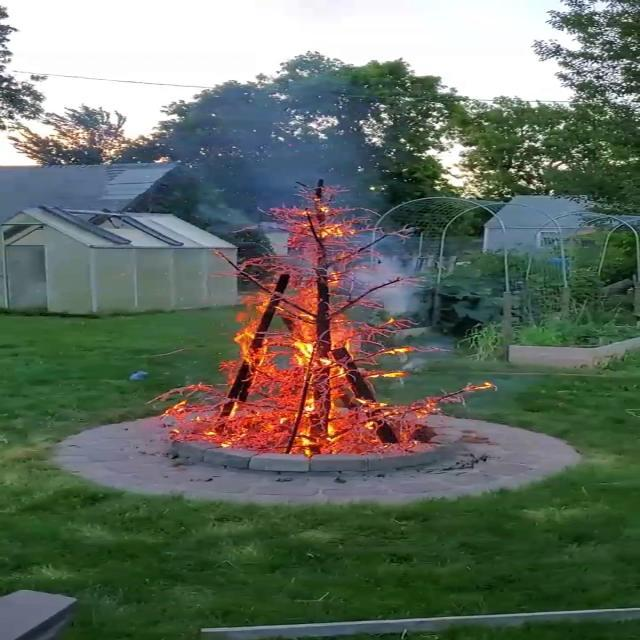Fire: (195, 268, 422, 457)
Smoke: (200, 77, 414, 257)
